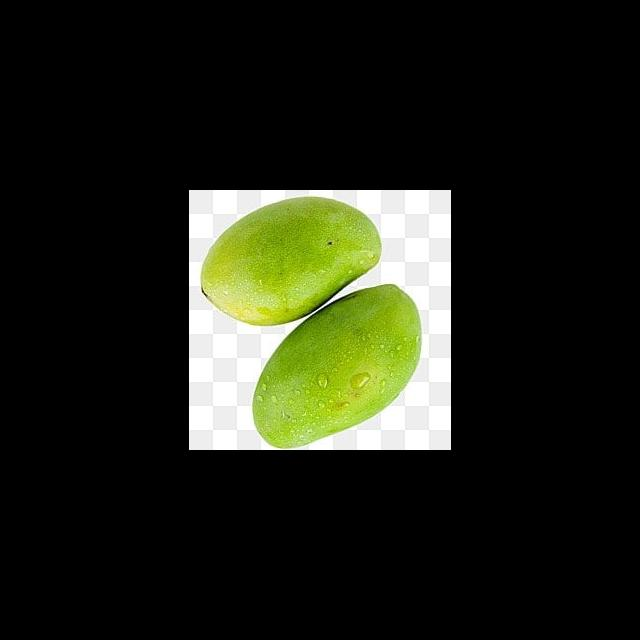xoai: (254, 284, 422, 444), (200, 194, 382, 327)
